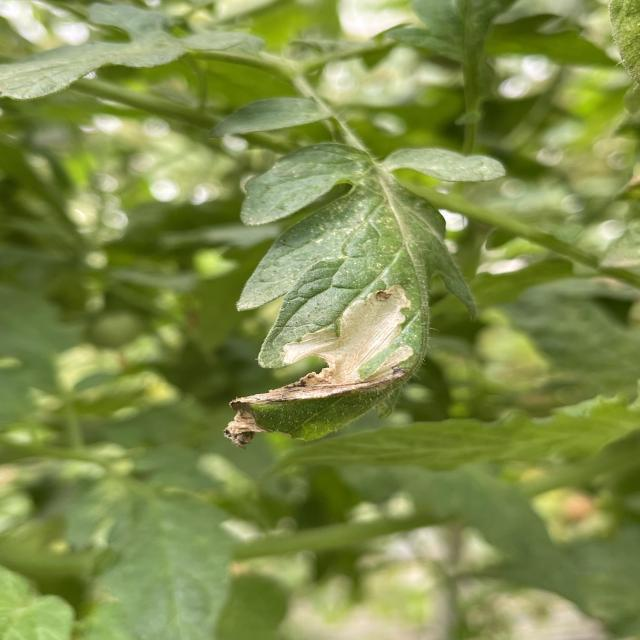Tuta absoluta: (278, 277, 433, 411), (364, 338, 415, 390)
